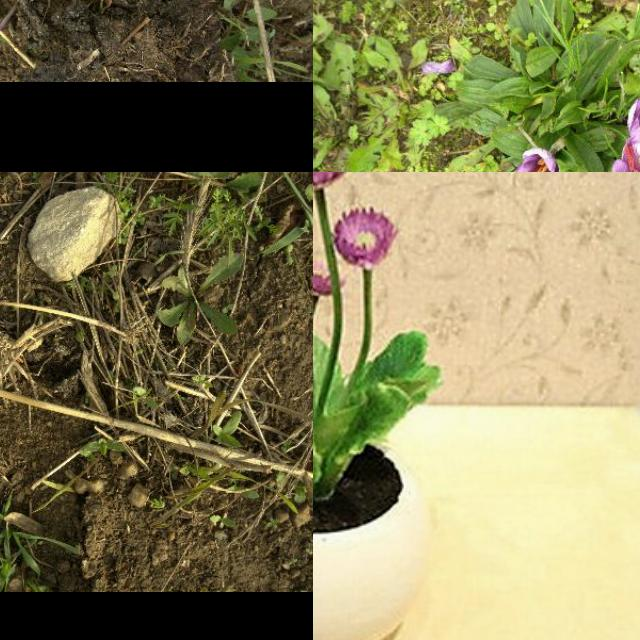flower: (593, 138, 640, 172), (509, 146, 563, 172)
